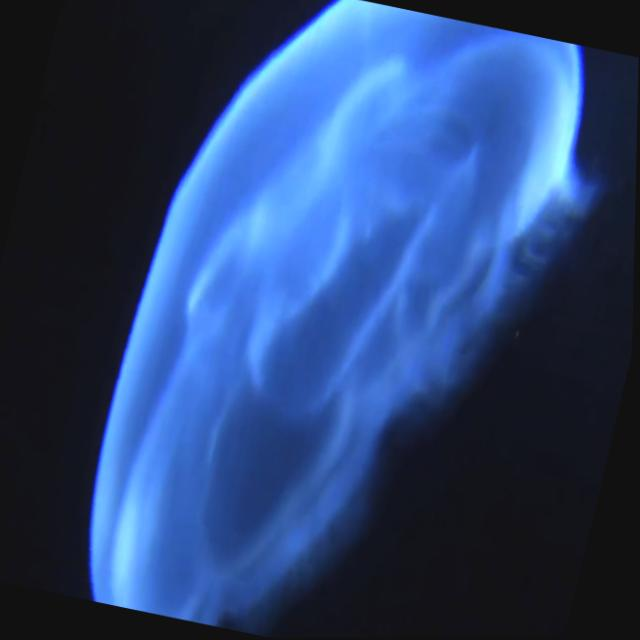Moon-jellyfish: (92, 0, 581, 626)
